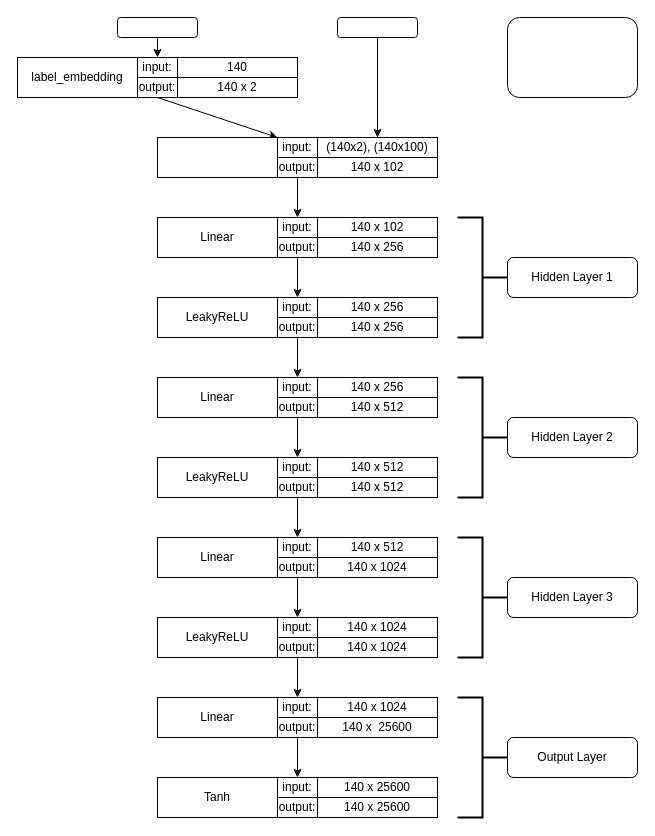
The diagram is 655 pixels wide and 836 high, and some of its shapes have lost their labels. Each missing label, with the centre of its shape:
"batch size = 140 image size = 160 x 160 = 25600" belongs at (x=572, y=57).
"Concatenation" belongs at (x=217, y=157).
"Labels" belongs at (x=157, y=27).
"Noise" belongs at (x=377, y=27).
